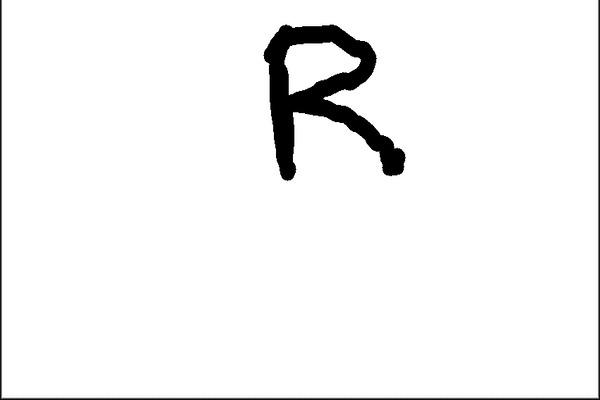R: (256, 16, 412, 187)
